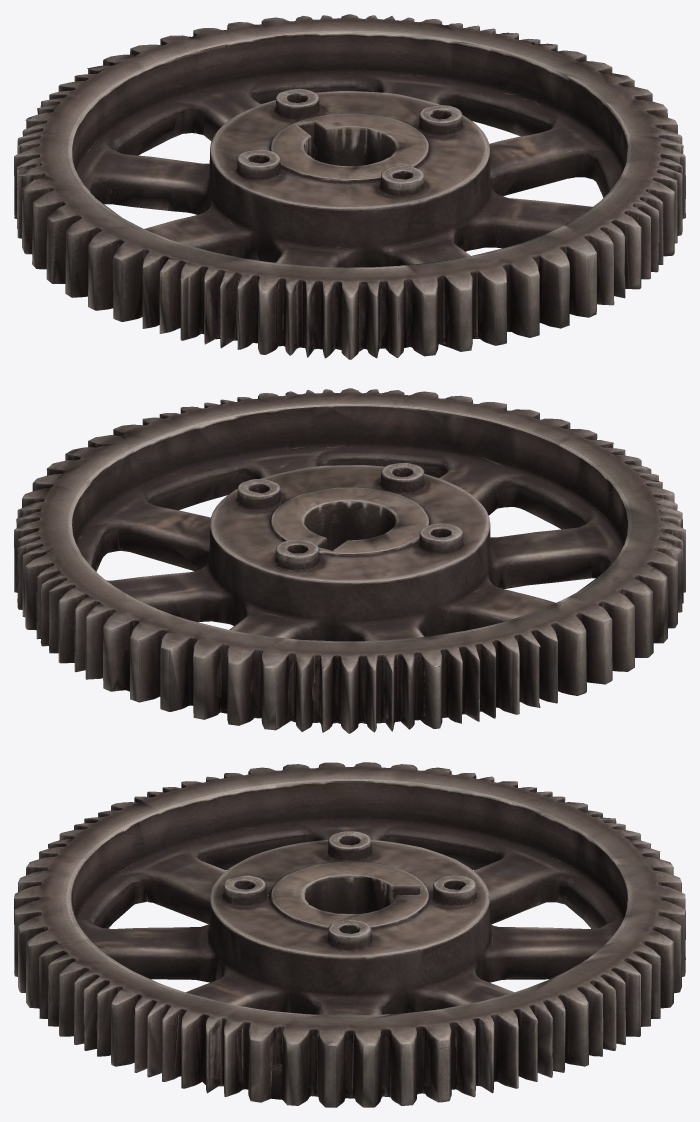
Rendered from gear.glb.
3 views of the same model, one above another, from view 1: azimuth 30°, elevation 25°; view 2: azimuth 150°, elevation 25°; view 3: azimuth 270°, elevation 25° (orthographic).
Parts seen in each view (by area): view 1: Mesh_0; view 2: Mesh_0; view 3: Mesh_0.
Part boxes in pixels (x1,y1,x2,y2): Mesh_0: [14, 14, 685, 359]; Mesh_0: [14, 388, 685, 733]; Mesh_0: [14, 762, 685, 1107].
Size of the model in its own units: 1.9 by 0.256 by 1.9.
1 material, 1 textured.
